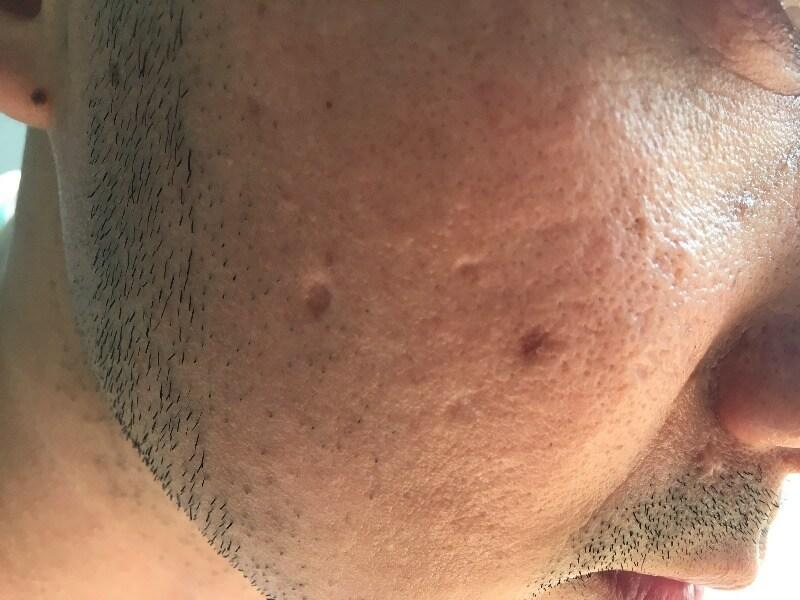Englarged-Pores: (495, 191, 649, 470)
Oily-Skin: (146, 7, 800, 600)
acne marks: (509, 314, 565, 366)
